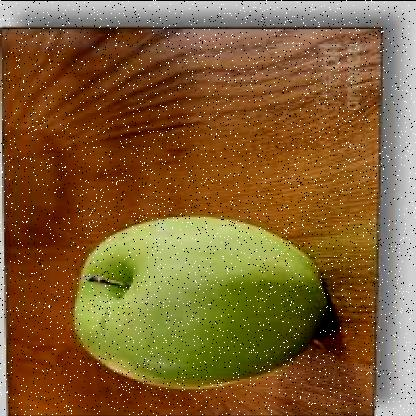apple: (75, 218, 339, 383)
